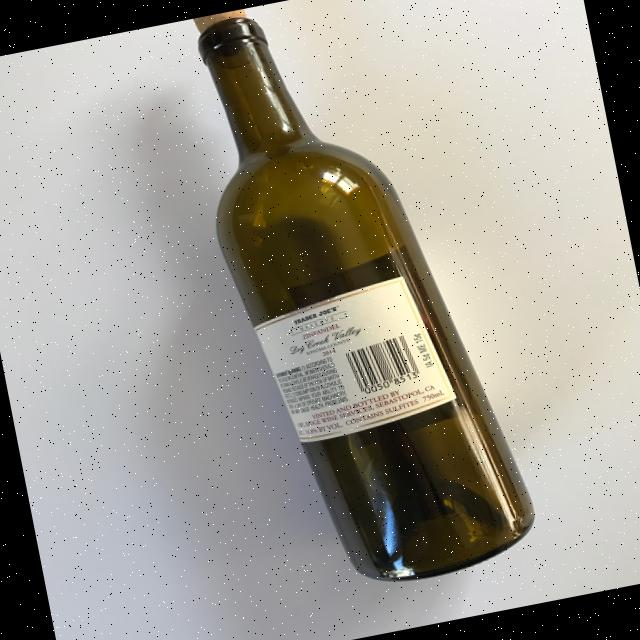glass: (182, 0, 539, 606)
